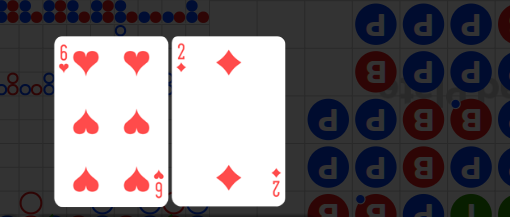2D: (176, 42, 188, 74)
6H: (59, 43, 71, 75)
